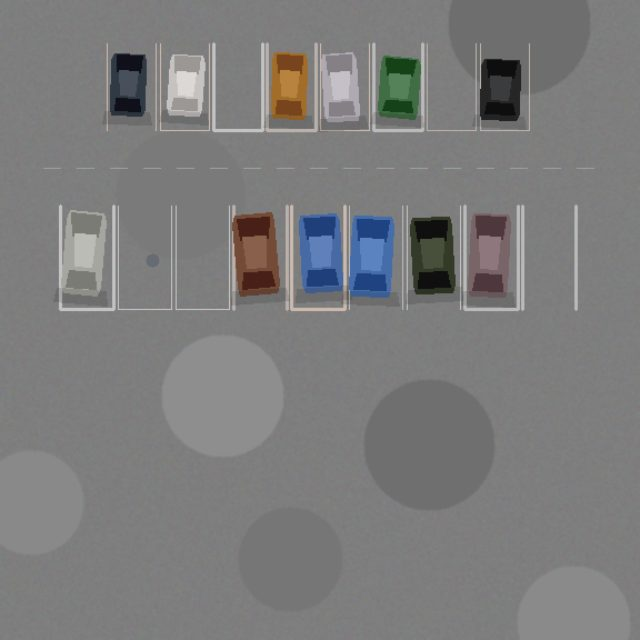space-empty: (522, 206, 576, 309), (118, 206, 171, 309), (176, 206, 229, 309), (213, 43, 262, 130), (427, 43, 476, 130)
space-occupied: (233, 206, 287, 309), (464, 206, 518, 309), (60, 206, 113, 309), (291, 206, 344, 309), (349, 206, 402, 309), (407, 206, 460, 309), (107, 43, 156, 130), (160, 43, 209, 130), (267, 43, 316, 130), (320, 43, 369, 130), (373, 43, 422, 130), (480, 43, 529, 130)
